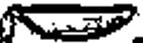Basket: (1, 3, 138, 40)
